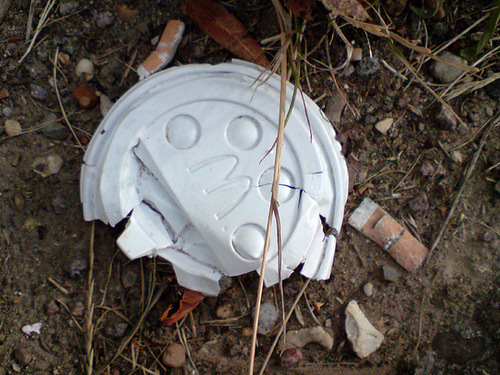litter: (79, 60, 350, 294), (351, 199, 429, 275), (142, 19, 185, 58)
